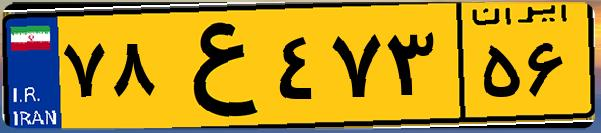3: (385, 28, 445, 110)
4: (270, 28, 330, 110)
5: (475, 38, 525, 113)
6: (525, 38, 570, 115)
7: (330, 28, 385, 110), (57, 26, 110, 100)
8: (110, 28, 158, 98)
ع: (158, 12, 270, 120)
